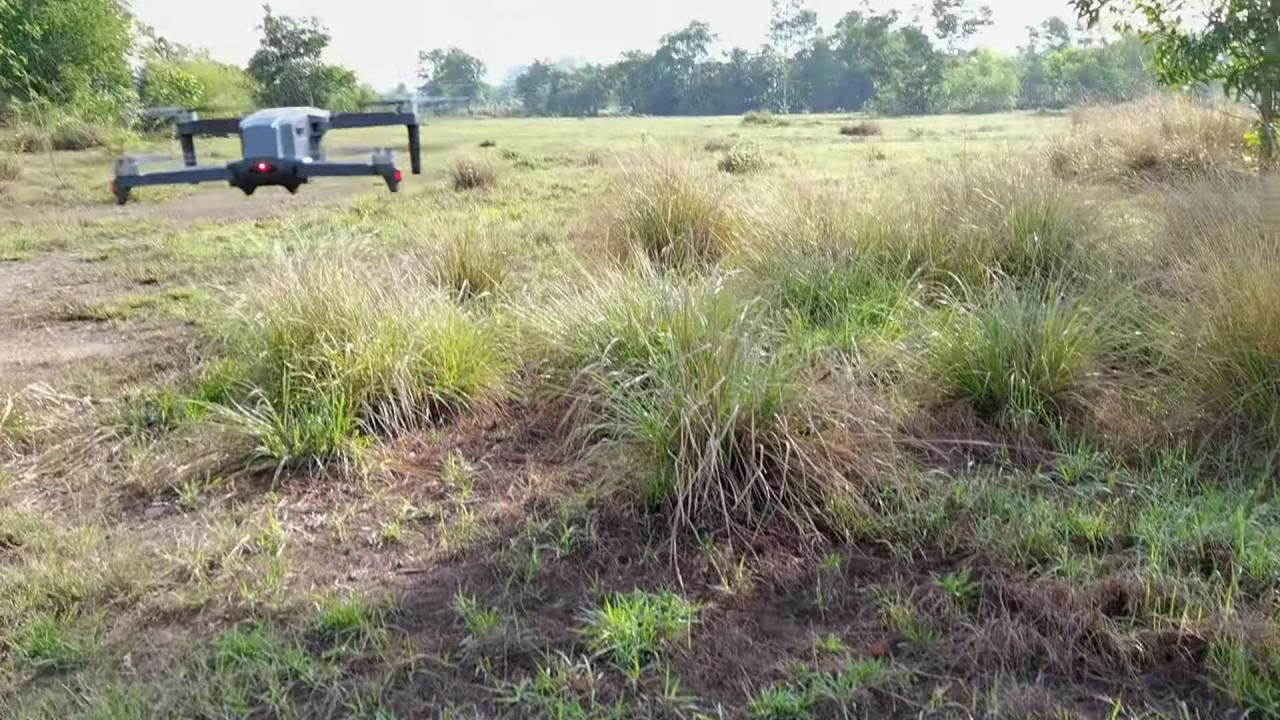Drone: (79, 78, 476, 218)
